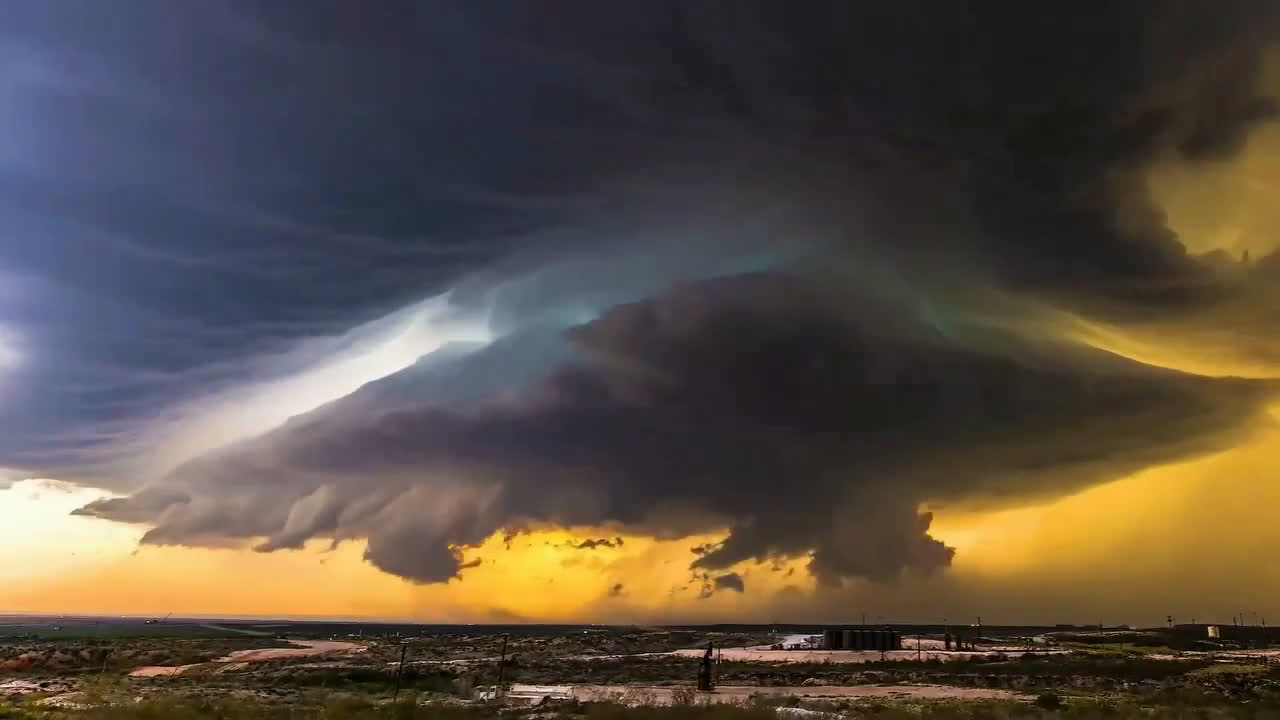RFD: (743, 452, 1274, 627)
mesocyclone: (383, 0, 1048, 585)
striations: (75, 348, 728, 532)
wall cloud: (76, 266, 1257, 599)
